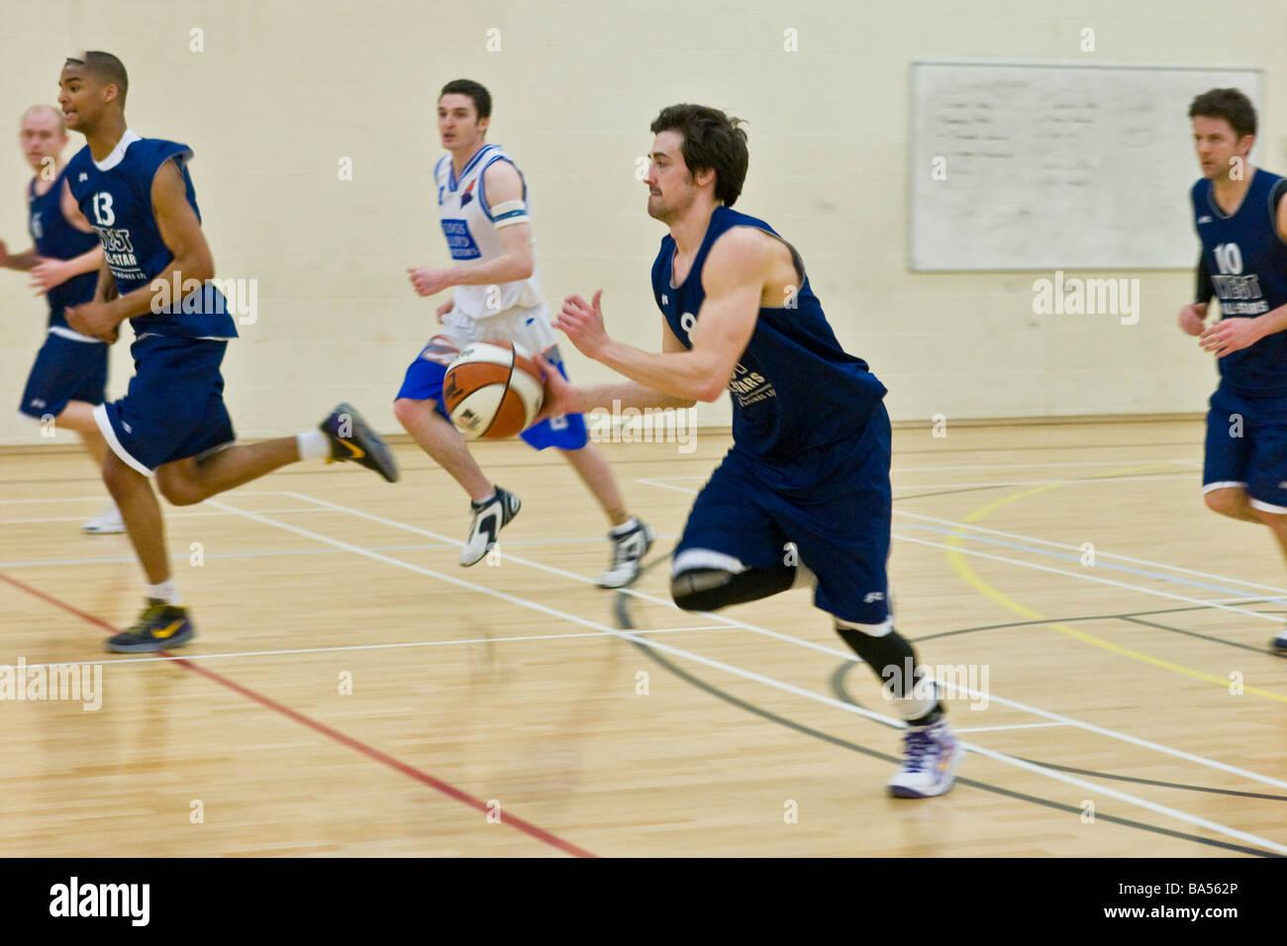basketball: (440, 338, 549, 445)
